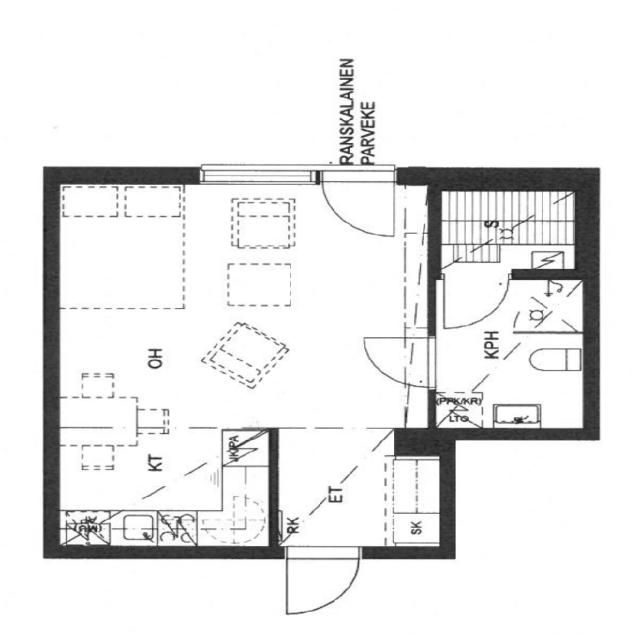door: (277, 544, 369, 620), (315, 170, 401, 242), (433, 274, 508, 333), (355, 333, 428, 388)
window: (190, 160, 326, 188)
zone: (51, 177, 436, 431), (47, 428, 276, 553), (428, 274, 590, 432), (271, 430, 440, 552), (428, 182, 580, 275)
